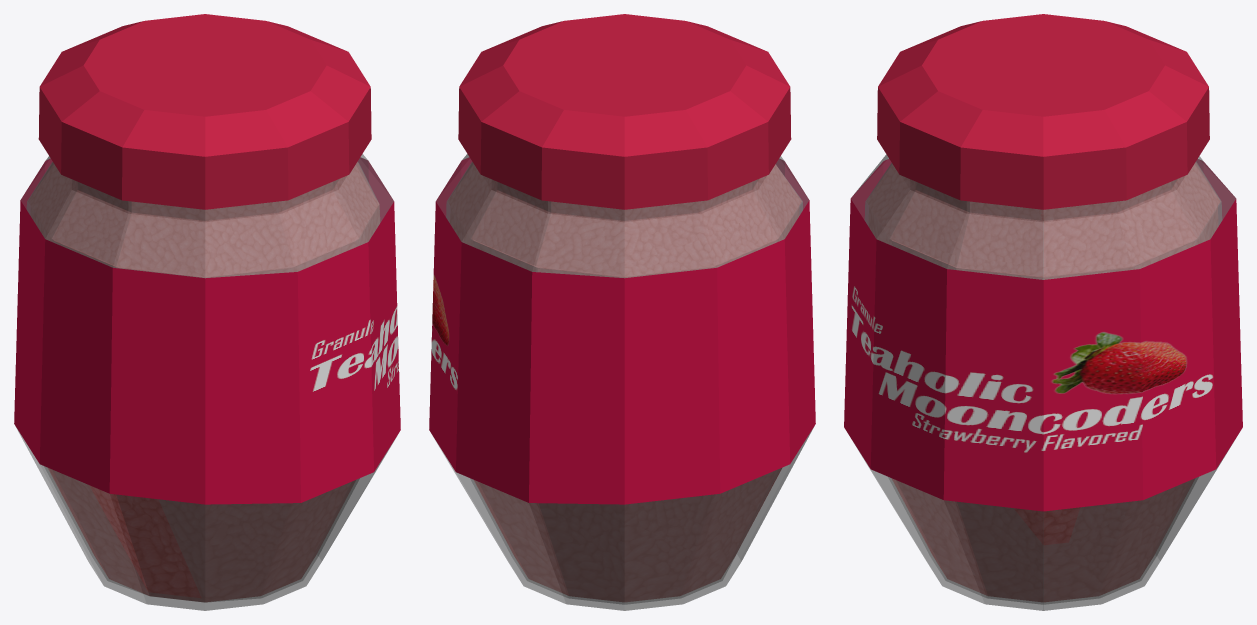
The model's file is StrawberryProductContainer.fbx.
The picture shows the model from 3 angles, left to right: view 1: azimuth 30°, elevation 25°; view 2: azimuth 150°, elevation 25°; view 3: azimuth 270°, elevation 25°; orthographic projection.
Parts seen in each view (by area): view 1: StrawberryContainer, StrawberryKiwiCover, StrawberryKiwiGranule, StrawberryKiwiGranule_5, StrawberryKiwiGranule_4; view 2: StrawberryContainer, StrawberryKiwiCover, StrawberryKiwiGranule, StrawberryKiwiGranule_5, StrawberryKiwiGranule_4; view 3: StrawberryContainer, StrawberryKiwiCover, StrawberryKiwiGranule_5, StrawberryKiwiGranule, StrawberryKiwiGranule_4.
Part boxes in pixels (x1,y1,x2,y2): StrawberryContainer: (14,154,400,610); StrawberryKiwiCover: (38,14,371,209); StrawberryKiwiGranule: (48,468,355,601); StrawberryKiwiGranule_5: (28,162,377,276); StrawberryKiwiGranule_4: (30,202,379,277); StrawberryContainer: (429,154,815,610); StrawberryKiwiCover: (458,14,791,209); StrawberryKiwiGranule: (474,468,781,601); StrawberryKiwiGranule_5: (448,162,801,275); StrawberryKiwiGranule_4: (450,207,799,277); StrawberryContainer: (844,154,1242,610); StrawberryKiwiCover: (877,14,1209,209); StrawberryKiwiGranule_5: (866,162,1220,275); StrawberryKiwiGranule: (892,479,1194,601); StrawberryKiwiGranule_4: (868,207,1218,279).
Size of the model in its own units: 61 by 86.5 by 63.04.
5 materials, 3 textured.
